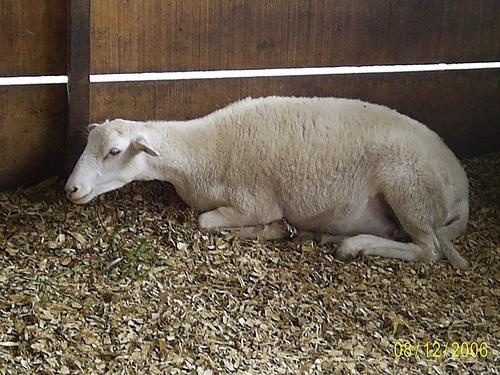sheep: (59, 94, 472, 270)
